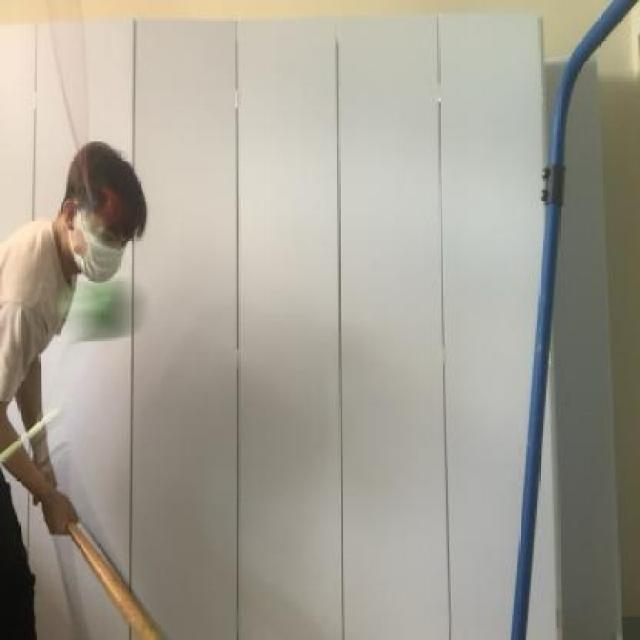baseball: (28, 270, 154, 356)
